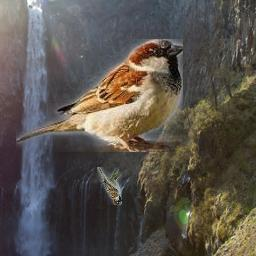Sparrow: (17, 40, 184, 153), (98, 167, 123, 205)
